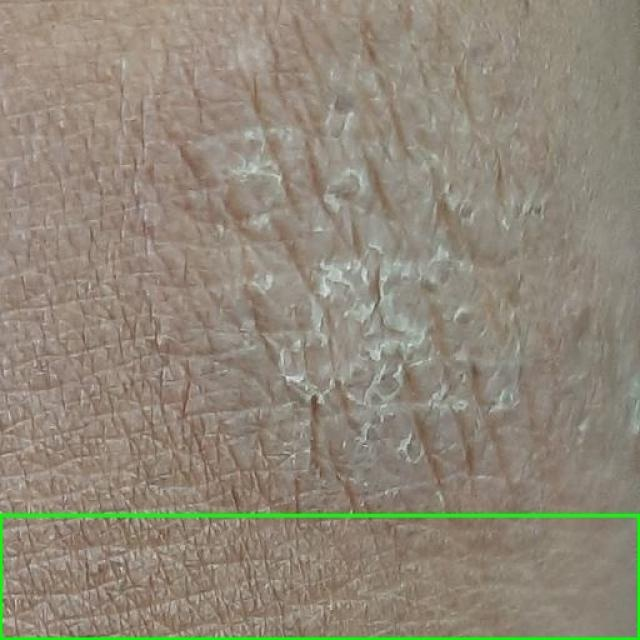Tinea Corporis: (0, 515, 639, 639)
